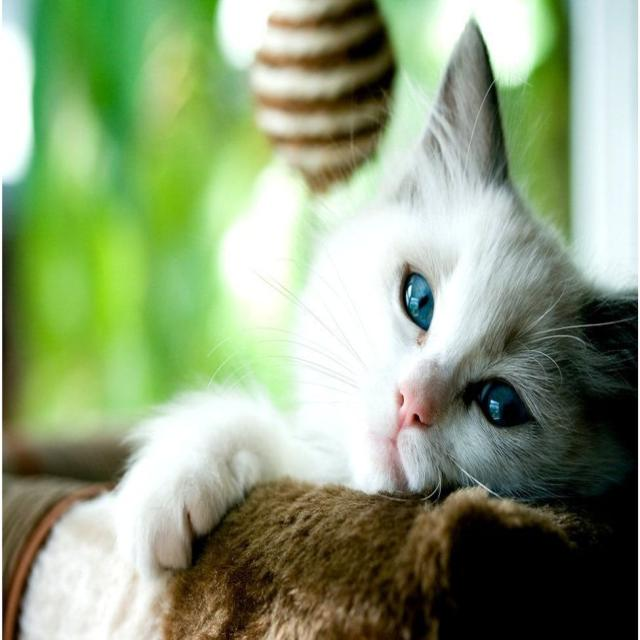cat: (260, 105, 536, 497)
